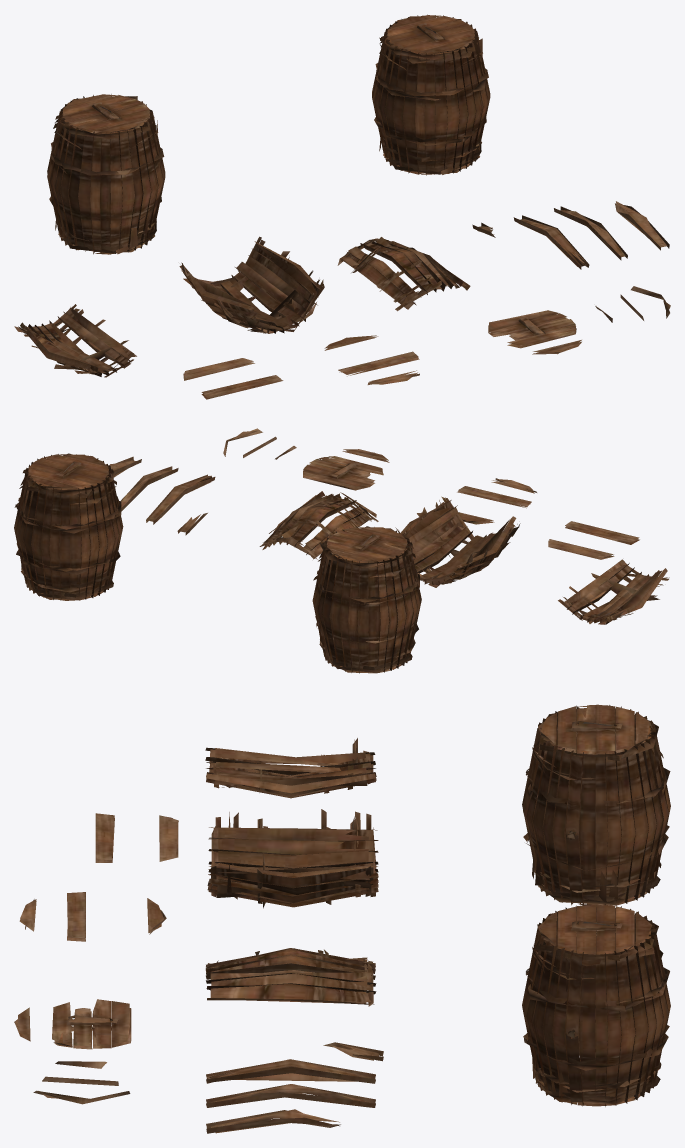
File: ph_wooden_barrels_01.glb
3 renders of one model, top to bottom at view 1: azimuth 30°, elevation 25°; view 2: azimuth 150°, elevation 25°; view 3: azimuth 270°, elevation 25°, orthographic. The views are drawn at different scales.
Parts seen in each view (by area): view 1: wooden_barrels_01_barrel01; view 2: wooden_barrels_01_barrel01; view 3: wooden_barrels_01_barrel01.
Boxes of the visible parts, box(x1,y1,x2,y2) form: wooden_barrels_01_barrel01: box(14, 14, 670, 399); wooden_barrels_01_barrel01: box(14, 428, 669, 673); wooden_barrels_01_barrel01: box(14, 704, 670, 1133).
Size of the model in its own units: 4.44 by 0.9495 by 3.36.
3 materials, 3 textured.
